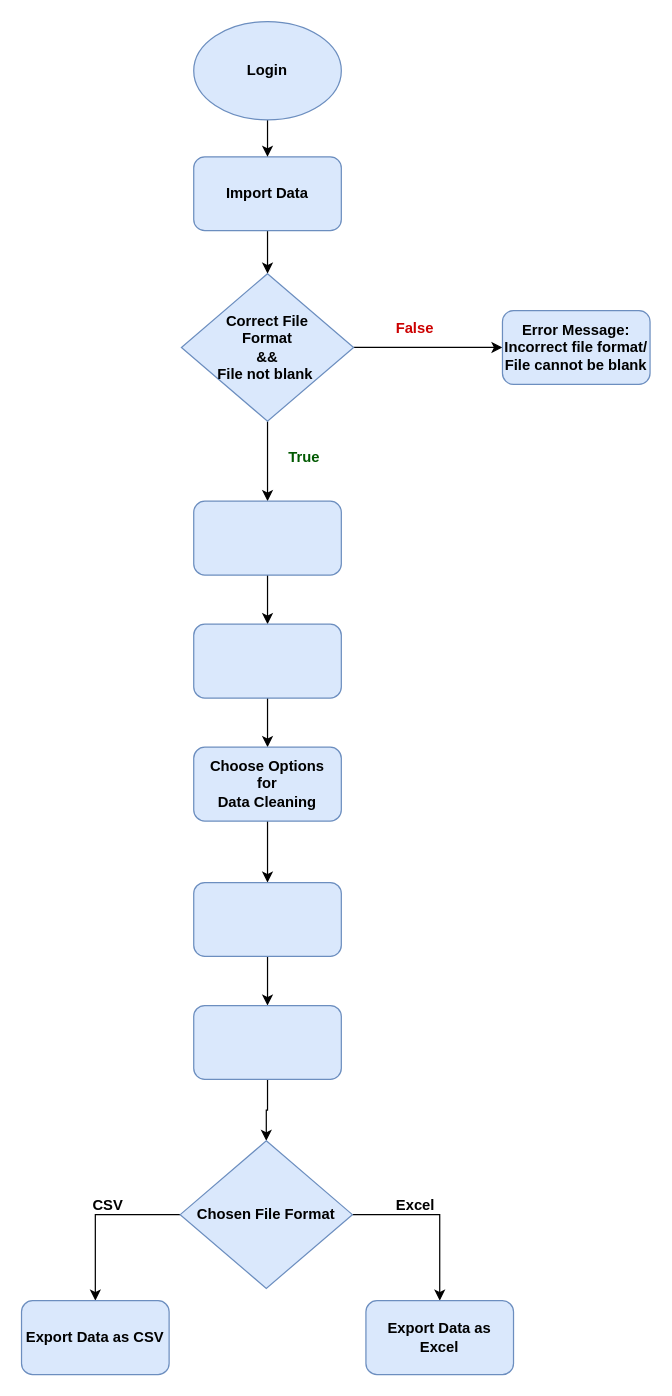
The diagram is 672 pixels wide and 1396 high, and some of its shapes have lost their labels. The box of each missing label's shape, as (x1, y1, x2, y2) in pixels:
Data Cleaning: (192, 881, 341, 956)
Data Preview (first 200 rows): (192, 500, 341, 575)
Data Profiling: (192, 623, 341, 698)
Export Cleaned Data: (192, 1004, 341, 1079)
